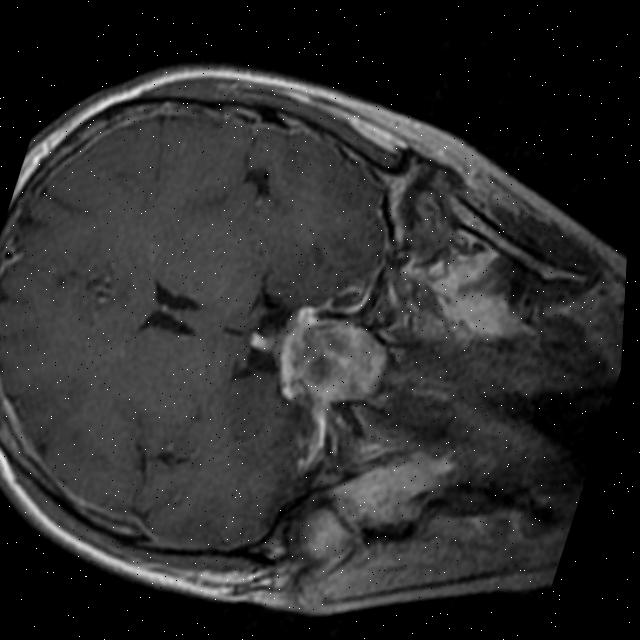Pituitary: (259, 299, 399, 421), (242, 327, 279, 355)
